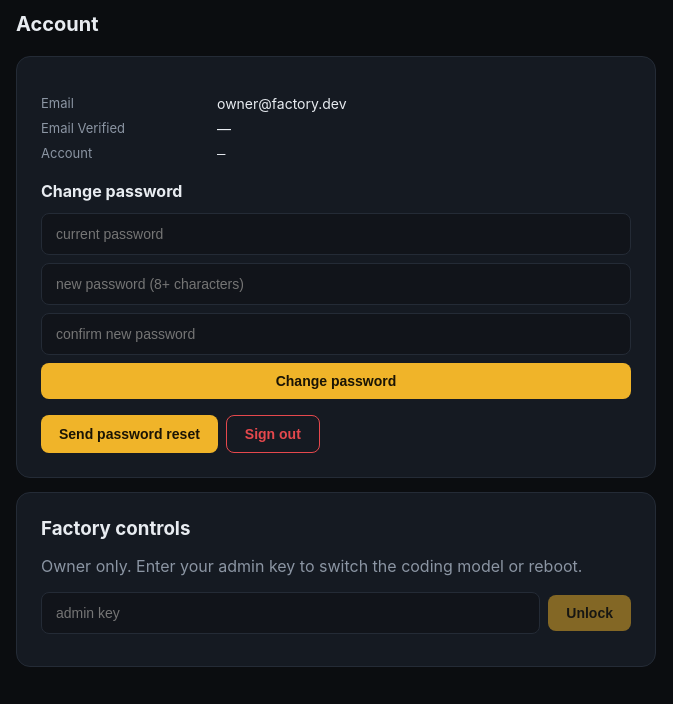
Test: Account password reset › surfaces a forgot-password API error without changing the session
Step 1. Click the button "Send password reset" → (129, 434), box [41,415,218,453]
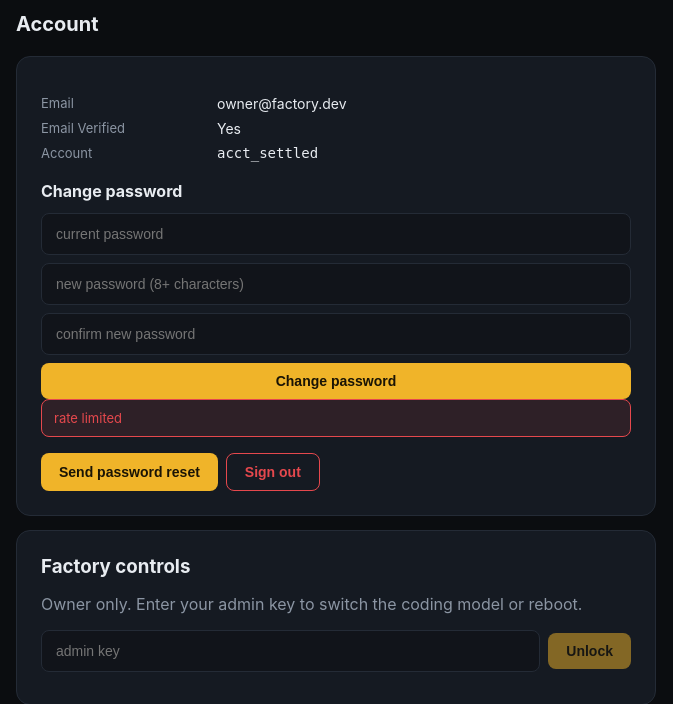
Expected: the button "Sign out" is shown, [226,453,320,491]
Now the text "rate limited" is shown, box [41,399,631,437]
